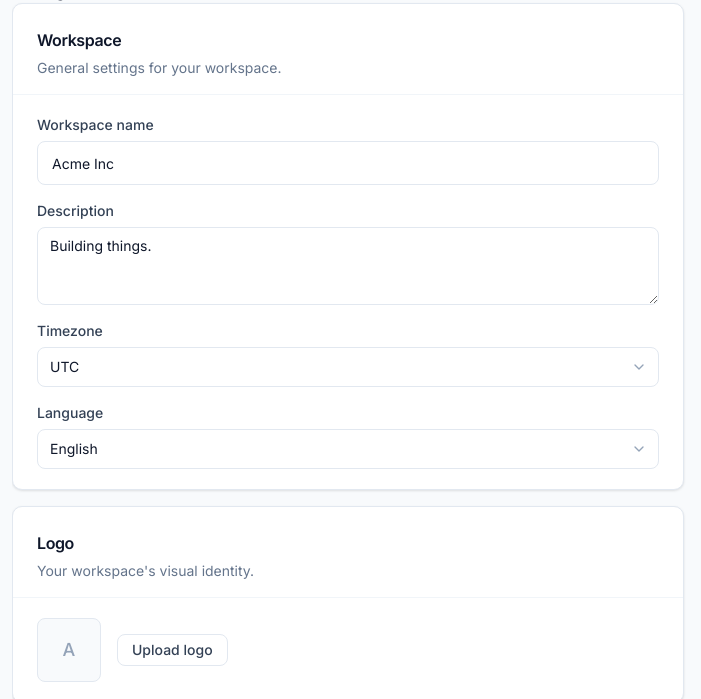
WorkspacePage › shows an error when saving fails
Step 1. Replace the text in the field labelled "Workspace name" with "Acme Corp" → [348, 163], box [37,141,659,185]
(page scrolled)
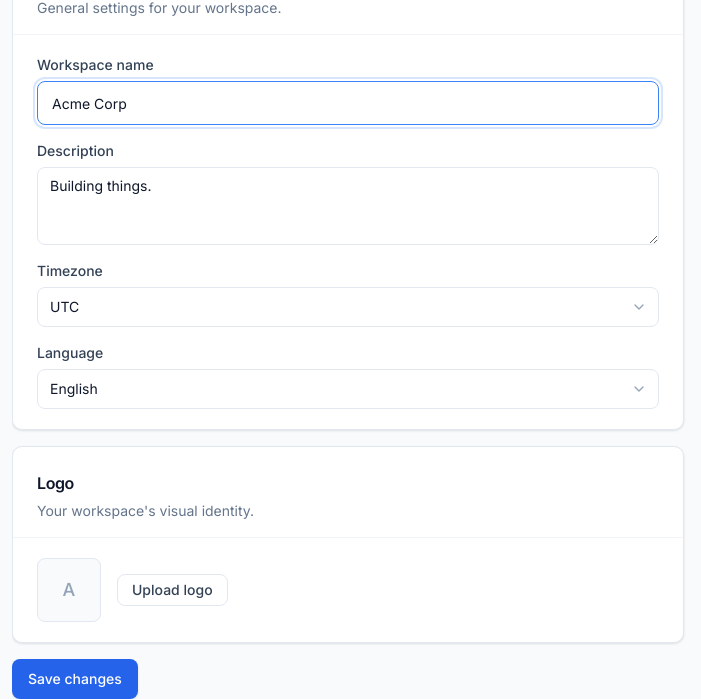
Step 2. Click the button "Save changes" → [75, 679], box [12,659,138,698]
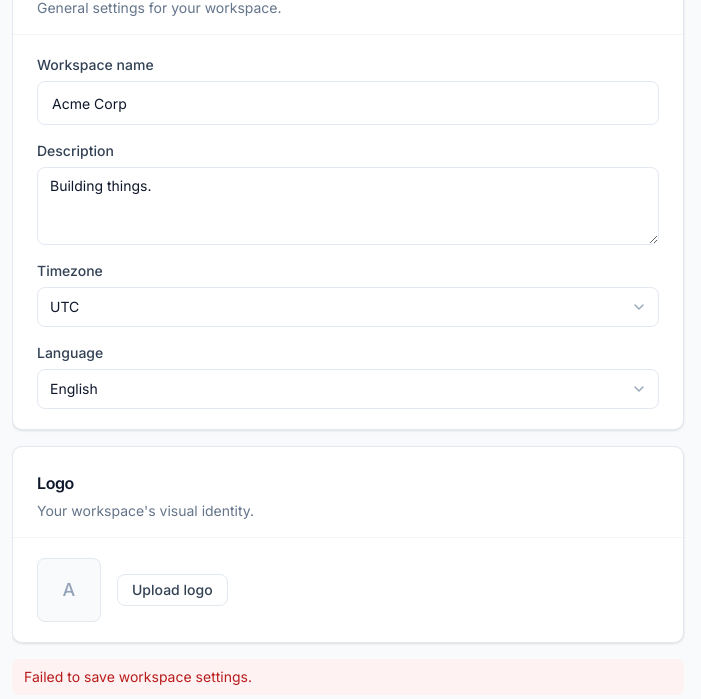
Check: the message shows "Failed to save workspace settings", box [24,668,252,685]
